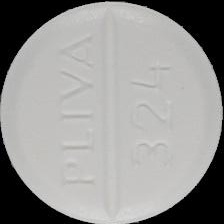50111-324: (0, 0, 224, 224)
